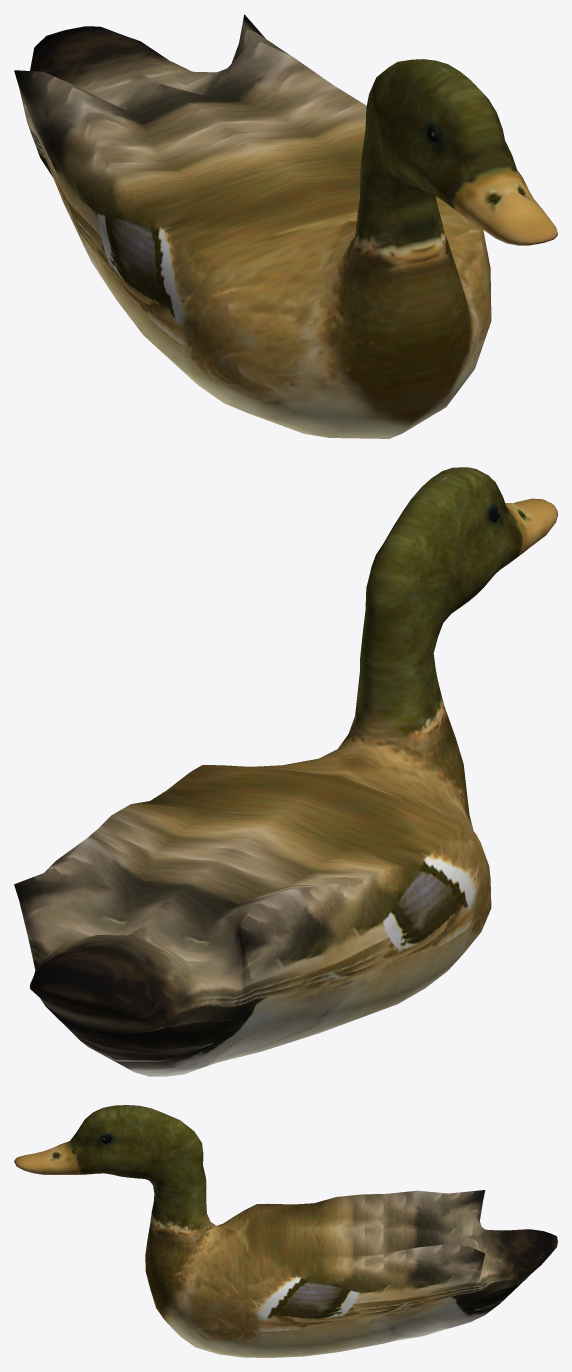
File: duck.gltf
3 views of the same model, one above another, from view 1: azimuth 30°, elevation 25°; view 2: azimuth 150°, elevation 25°; view 3: azimuth 270°, elevation 25° (orthographic). The views are drawn at different scales.
Visible parts, largest first — view 1: 动物_野鸭; view 2: 动物_野鸭; view 3: 动物_野鸭.
Boxes of the visible parts, box(x1,y1,x2,y2) form: 动物_野鸭: box(14, 14, 557, 438); 动物_野鸭: box(14, 467, 557, 1076); 动物_野鸭: box(14, 1105, 557, 1357).
Bounding box in the file's own units: 0.1717 × 0.2358 × 0.4825.
Materials: 1 (1 with a texture image).
